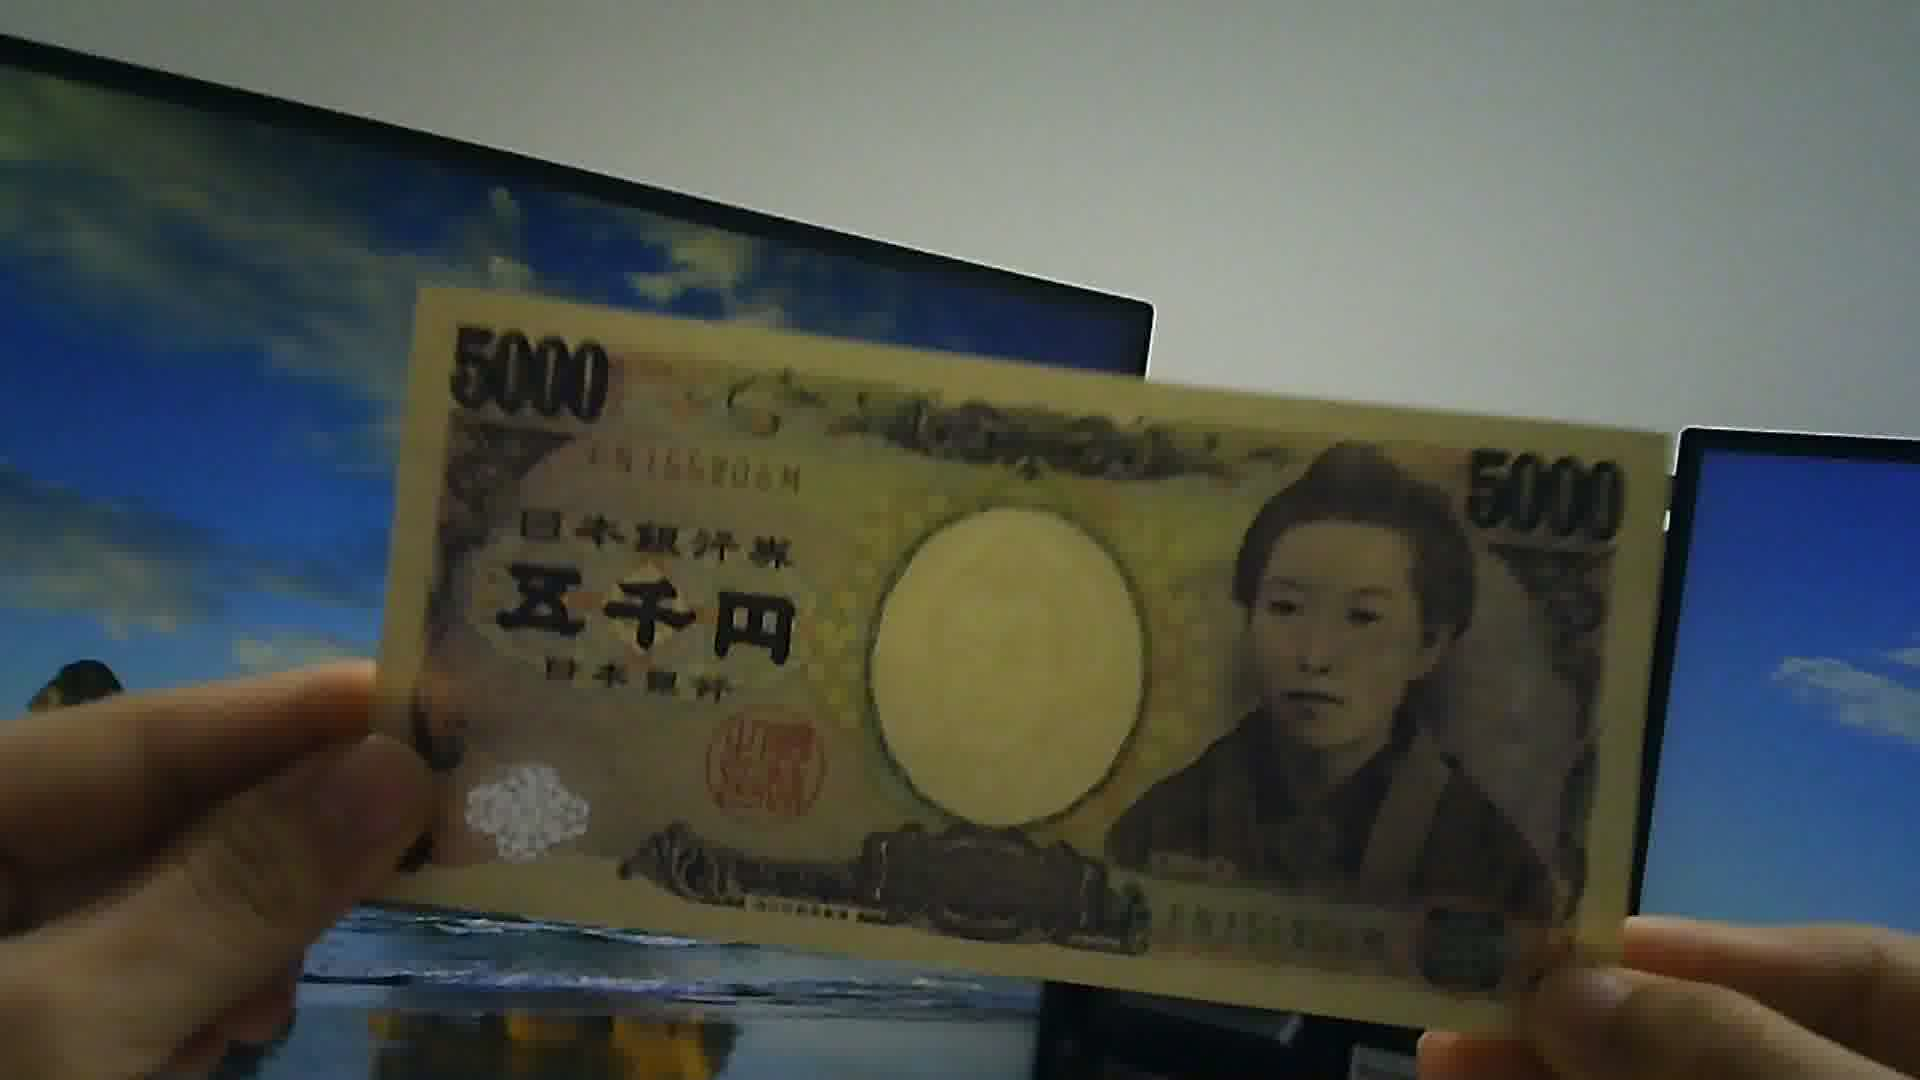5,000 Yen: (345, 276, 1725, 1033)
